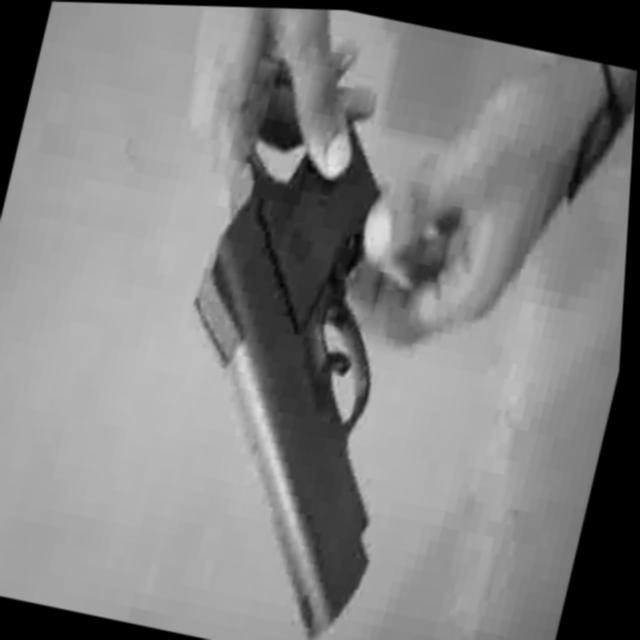weapon: (128, 34, 486, 640)
